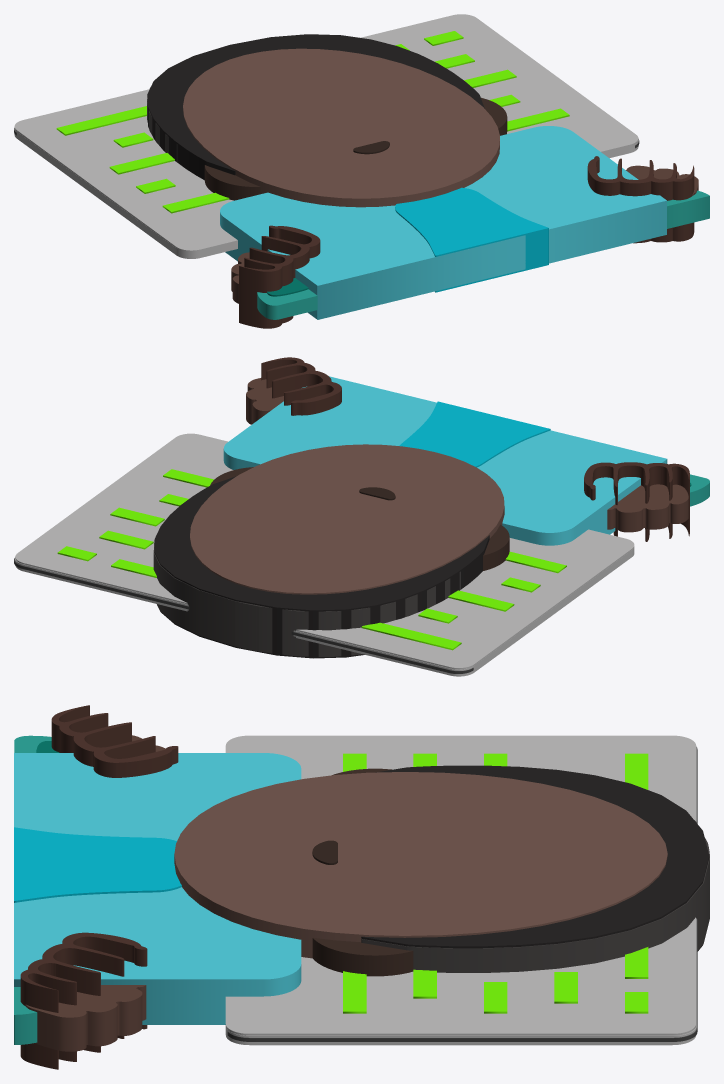
The model's file is emoji_u1f468_1f3ff_200d_1f4bb.glb.
The picture shows the model from 3 angles, top to bottom: view 1: azimuth 30°, elevation 25°; view 2: azimuth 150°, elevation 25°; view 3: azimuth 270°, elevation 25°; orthographic projection. The views are drawn at different scales.
Parts seen in each view (by area): view 1: emoji_u1f468_1f3ff_200d_1f4bb; view 2: emoji_u1f468_1f3ff_200d_1f4bb; view 3: emoji_u1f468_1f3ff_200d_1f4bb.
Boxes of the visible parts, x1=… form: emoji_u1f468_1f3ff_200d_1f4bb: x1=14, y1=14, x2=709, y2=328; emoji_u1f468_1f3ff_200d_1f4bb: x1=14, y1=357, x2=709, y2=676; emoji_u1f468_1f3ff_200d_1f4bb: x1=14, y1=705, x2=709, y2=1069.
Bounding box in the file's own units: 0.0339 × 0.0042 × 0.0333.
